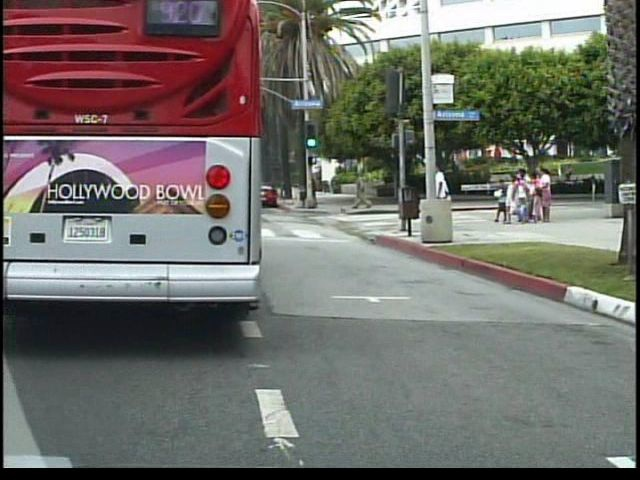person: (426, 161, 459, 237), (432, 169, 455, 232), (355, 168, 375, 211)
